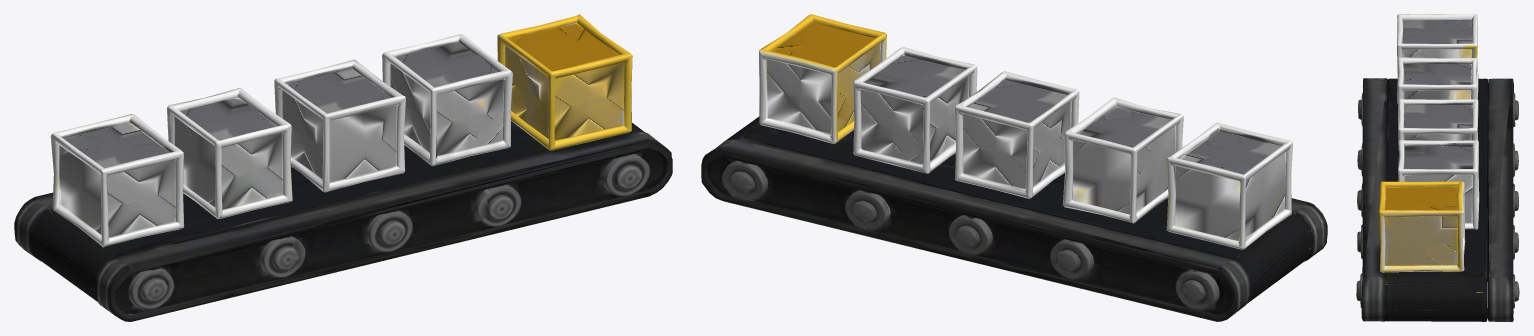
The model's file is s2_r6c1_five_slot_conveyor_display.glb.
3 renders of one model, left to right at view 1: azimuth 30°, elevation 25°; view 2: azimuth 150°, elevation 25°; view 3: azimuth 270°, elevation 25°, orthographic. The views are drawn at different scales.
Bounding box in the file's own units: 1 × 0.2363 × 0.3239.
Materials: 1 (1 with a texture image).
